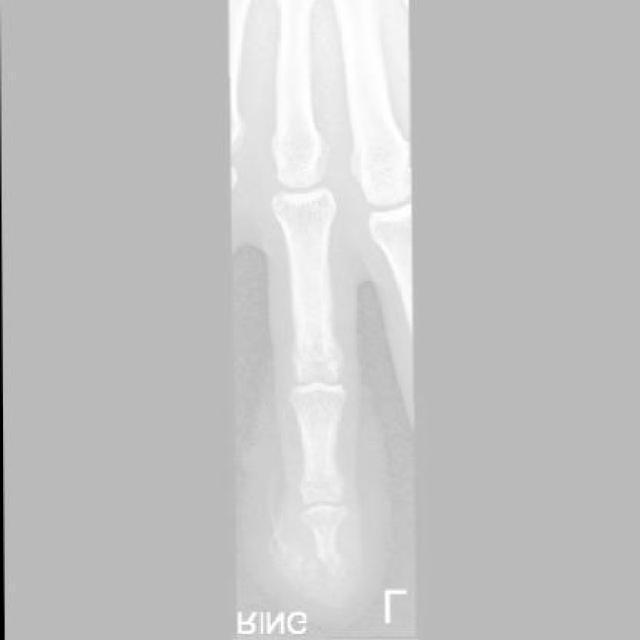Fracture: (302, 546, 350, 592)
